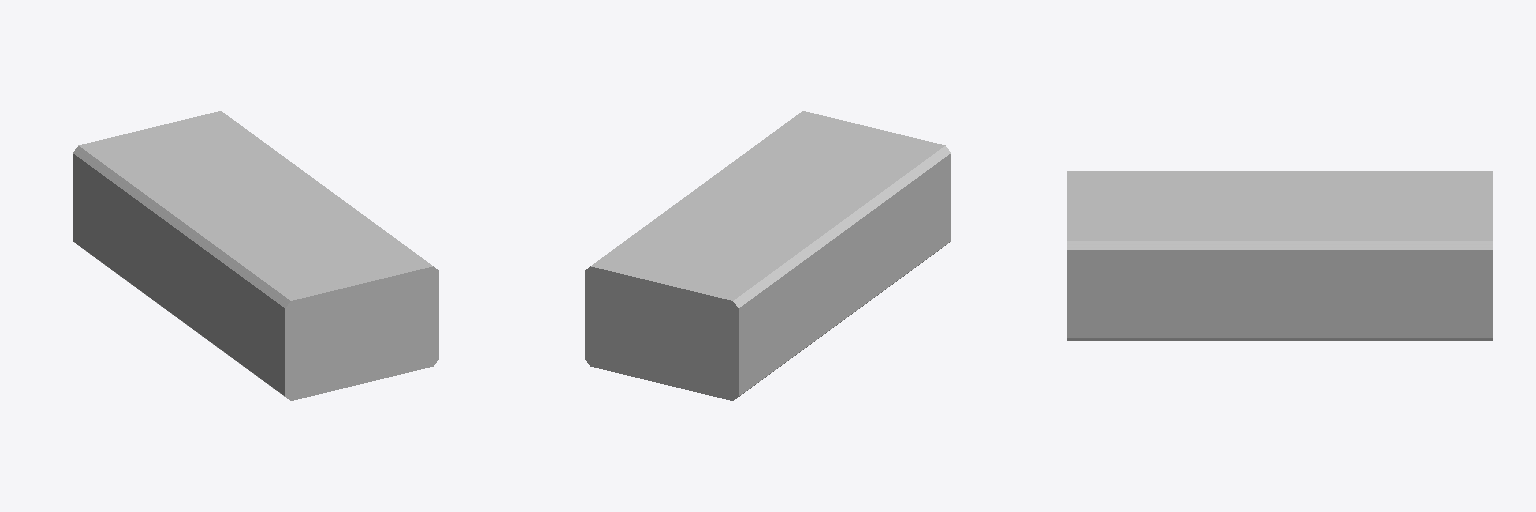
File: factory_rectangular_peg_32mm_loose_subdiv_3x.obj
The picture shows the model from 3 angles: view 1: azimuth 30°, elevation 25°; view 2: azimuth 150°, elevation 25°; view 3: azimuth 270°, elevation 25°; orthographic projection.
Visible parts, largest first — view 1: mesh0; view 2: mesh0; view 3: mesh0.
Part boxes in pixels (bbox=[...]): mesh0: bbox=[73, 111, 438, 400]; mesh0: bbox=[585, 111, 950, 400]; mesh0: bbox=[1067, 171, 1492, 340].
Size of the model in its own units: 0.0319 by 0.0198 by 0.0762.